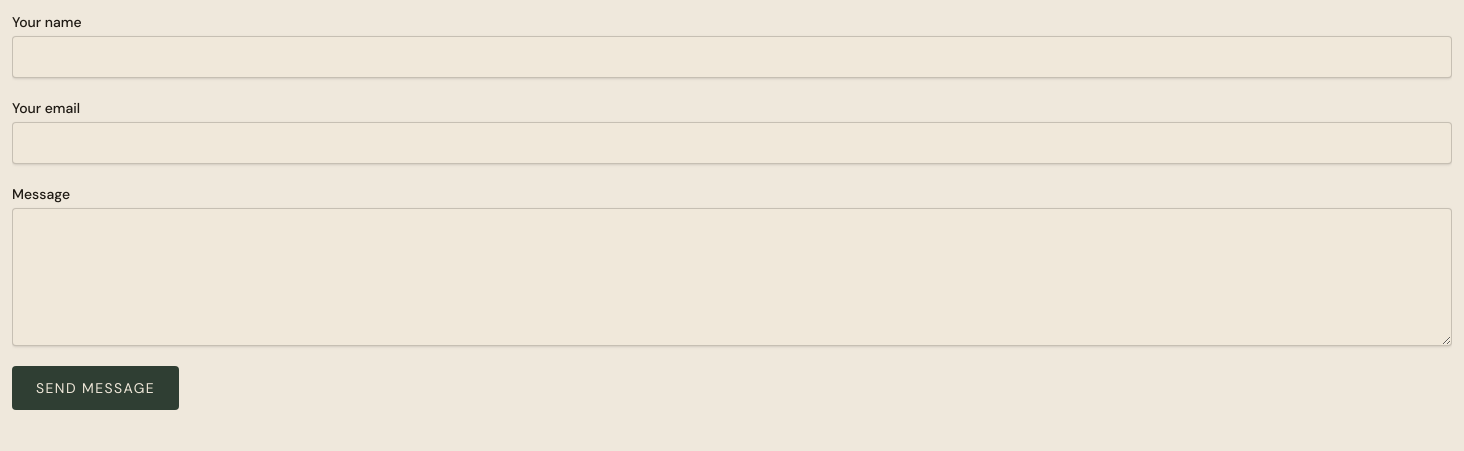
Test case: ContactForm › renders field-level validation errors returned by the action
This screenshot has width=1464, height=451.
Type "Real Visitor" into the field labelled "Your name".
click(732, 57); type("Real Visitor")  # box [12,36,1452,78]
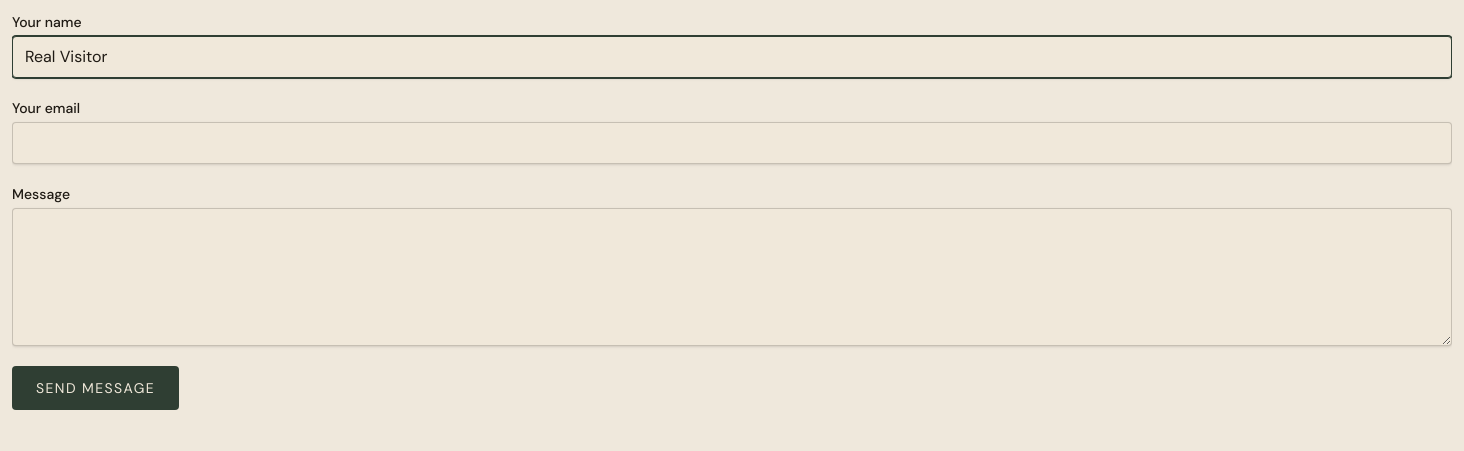
Type "visitor@example.com" into the field labelled "Your email".
click(732, 143); type("visitor@example.com")  # box [12,122,1452,164]
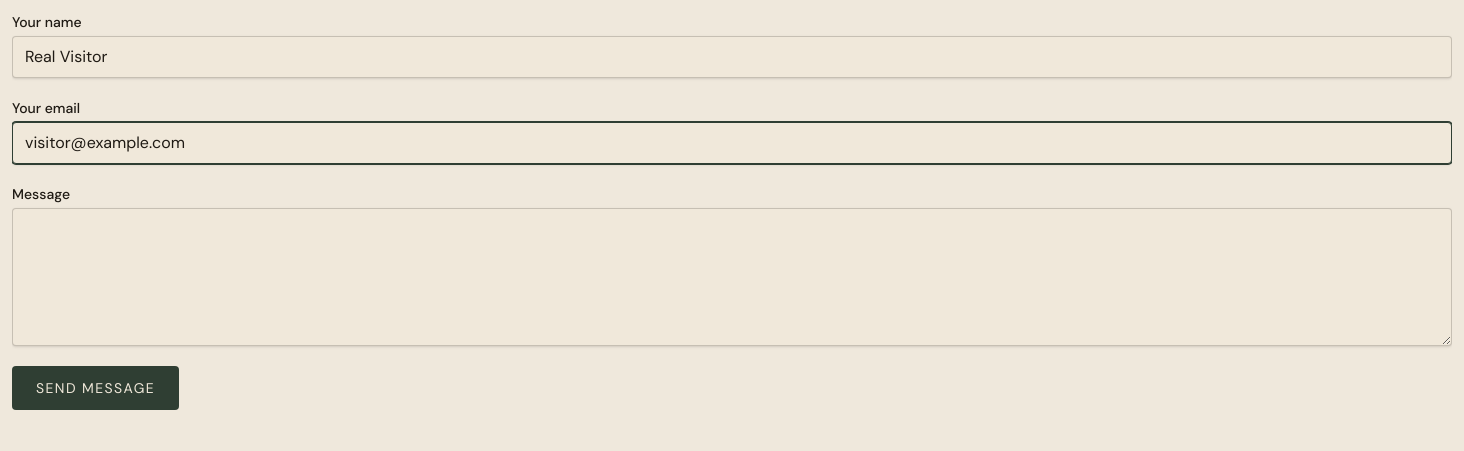
Type "Hello — I'd love to come by tomorrow morning if you have any cardamom buns left." into the text box labelled "Message".
click(732, 277); type("Hello — I'd love to come by tomorrow morning if you have any cardamom buns left.")  # box [12,208,1452,346]
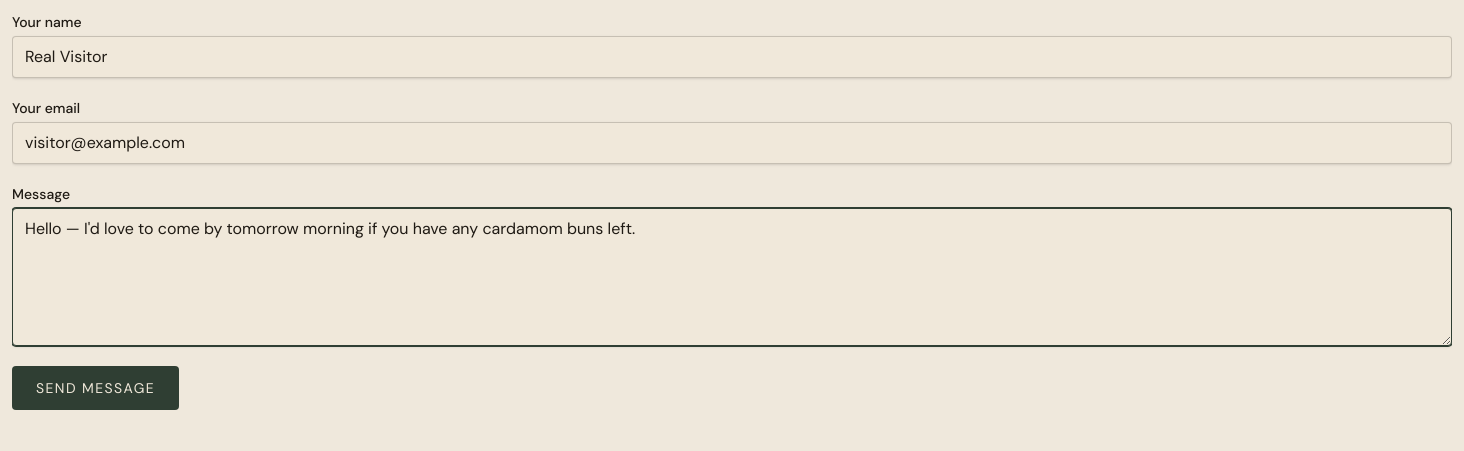
Click the button "Send message".
click(96, 388)  # box [12,366,179,410]
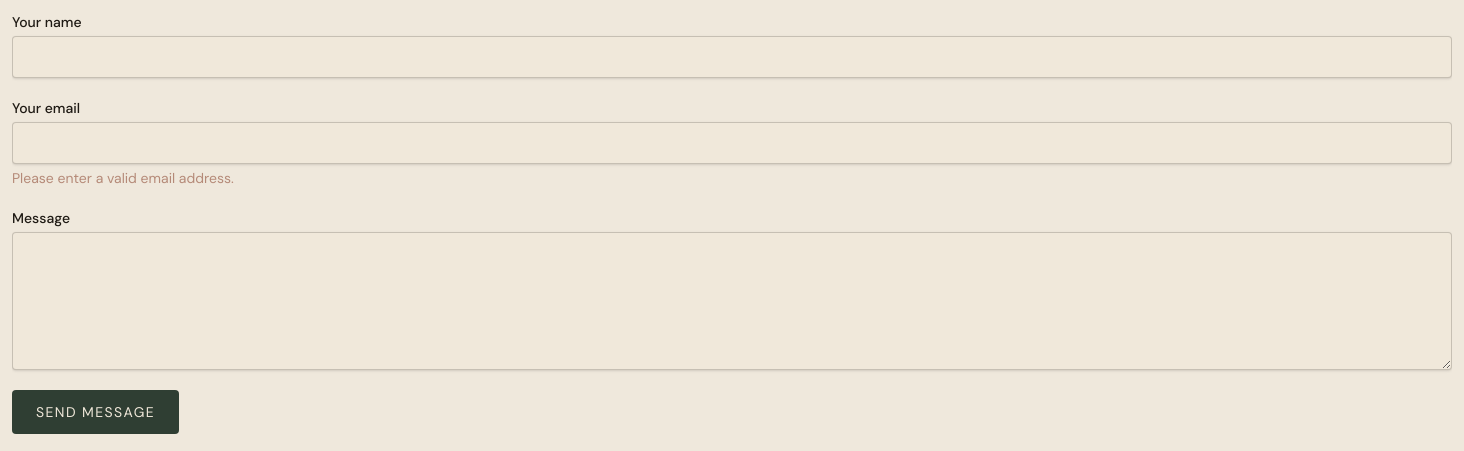
Check: the text "Please enter a valid email address." is shown, box [12,169,234,187]
